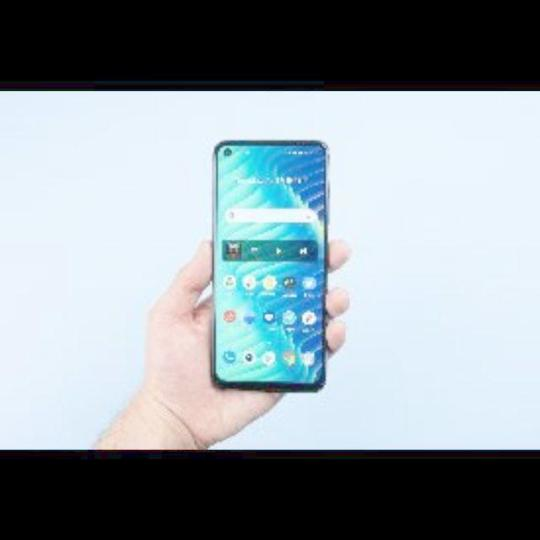phone: (211, 132, 329, 394)
